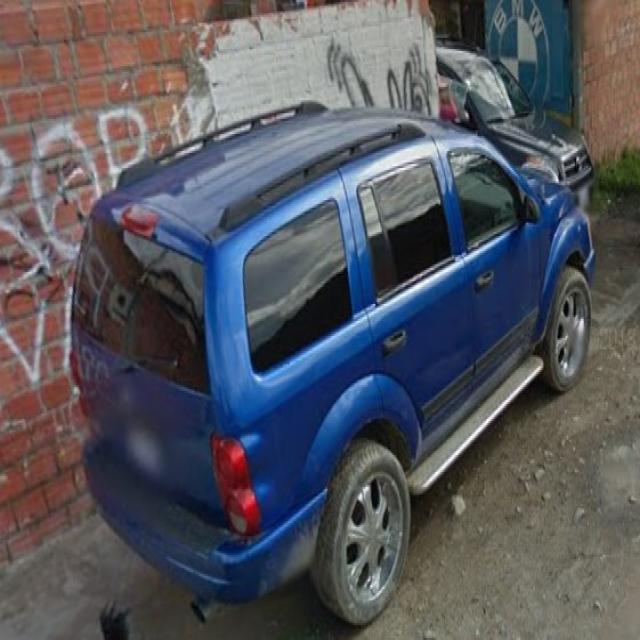cars: (70, 87, 603, 634)
